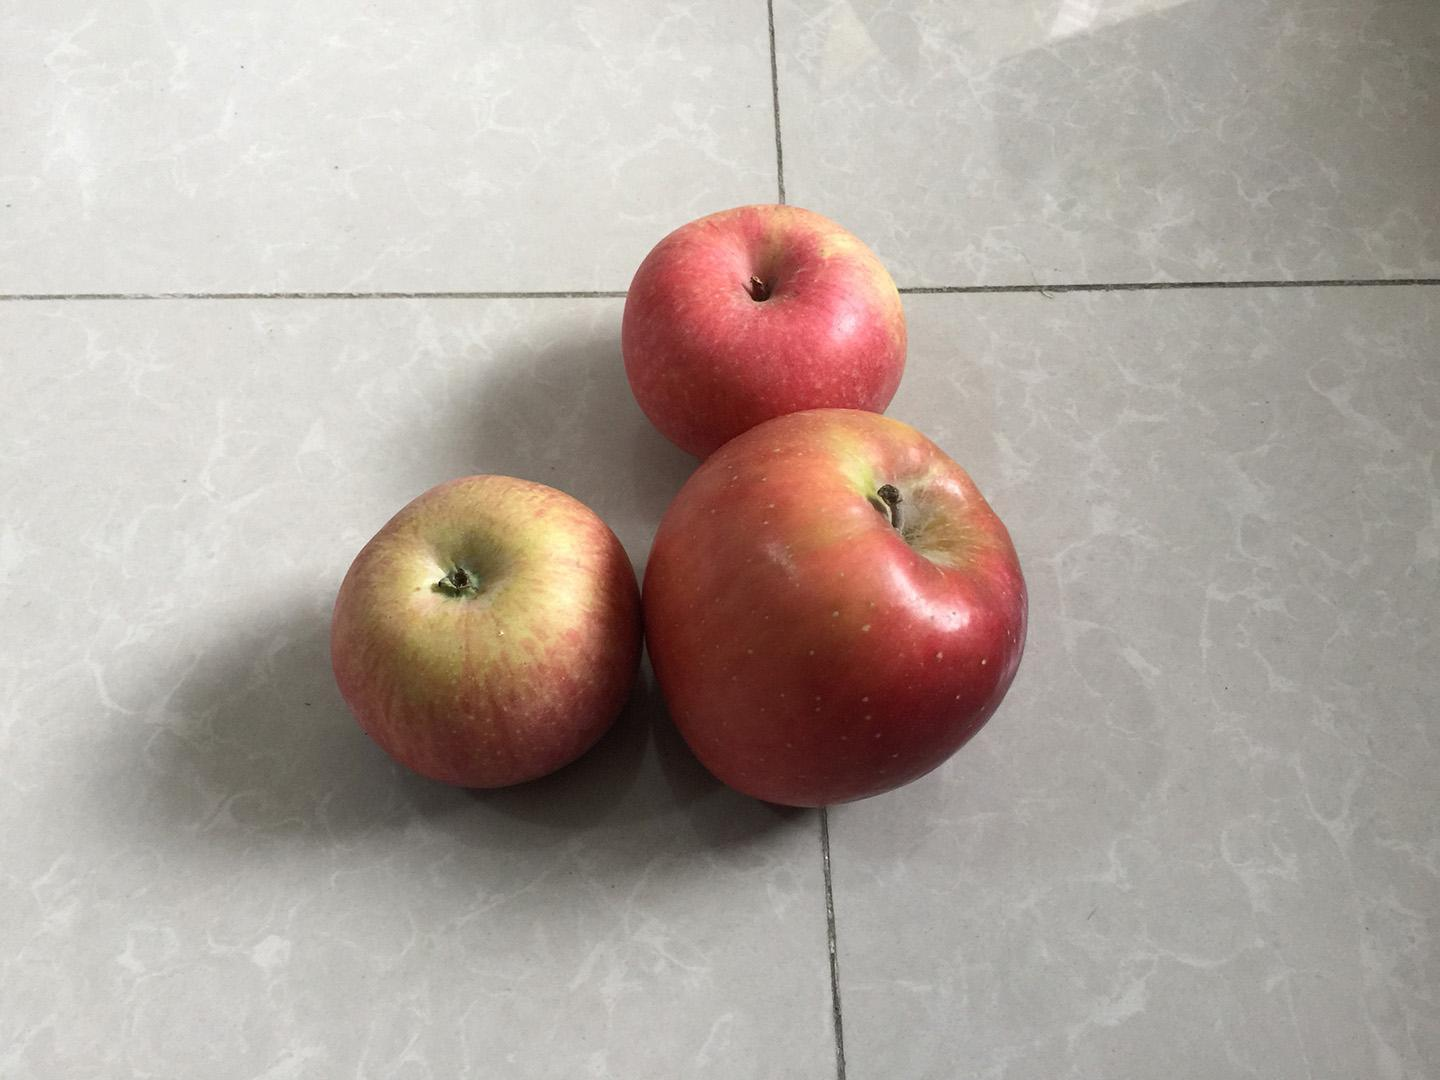apple: (622, 398, 1043, 817), (315, 464, 651, 805), (615, 194, 923, 482)
